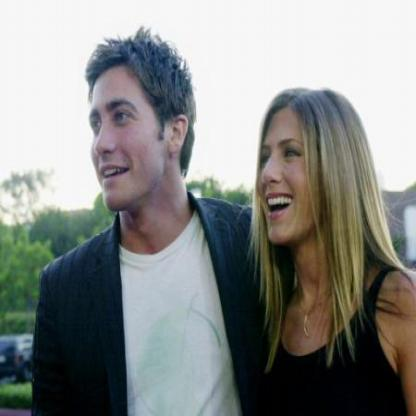face: (77, 53, 172, 217), (252, 92, 333, 252)
